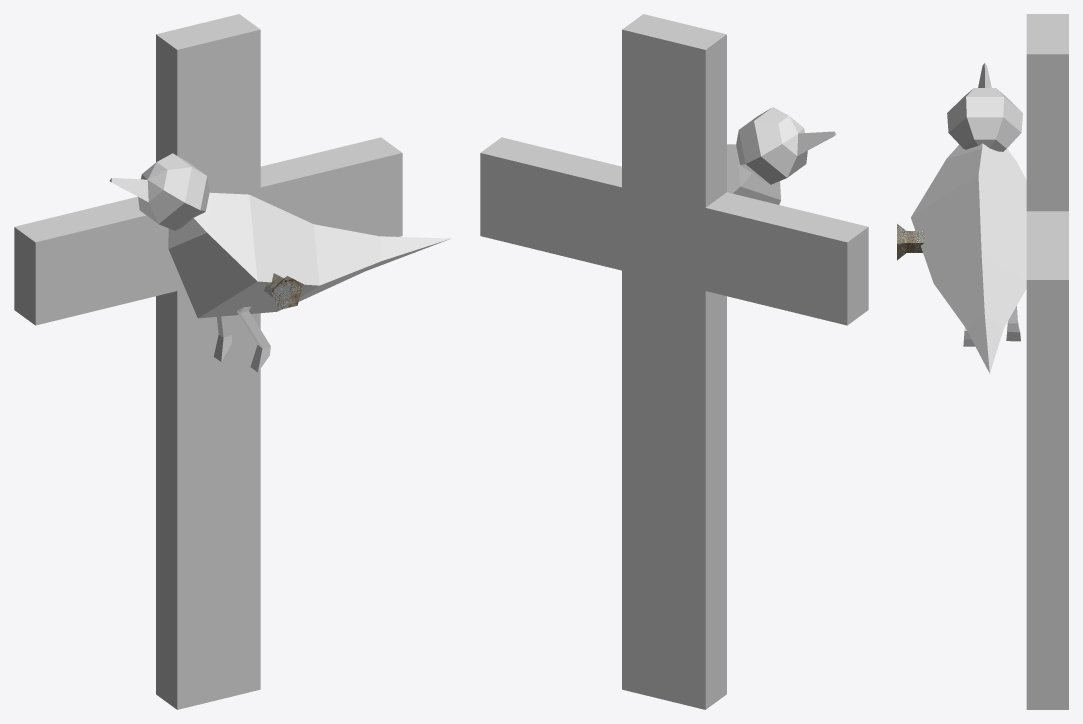
Rendered from DeadBird.fbx.
3 views of the same model, side by side, from view 1: azimuth 30°, elevation 25°; view 2: azimuth 150°, elevation 25°; view 3: azimuth 270°, elevation 25° (orthographic).
Visible parts, largest first — view 1: Cube.180, Sphere, Circle.110; view 2: Cube.180, Sphere; view 3: Cube.180, Sphere, Circle.110.
Part boxes in pixels (<box>): Cube.180: <box>14,14,402,709</box>; Sphere: <box>109,153,450,372</box>; Circle.110: <box>264,273,303,310</box>; Cube.180: <box>480,14,868,709</box>; Sphere: <box>727,107,836,204</box>; Cube.180: <box>1026,14,1068,709</box>; Sphere: <box>911,63,1026,373</box>; Circle.110: <box>897,224,924,260</box>.
Size of the model in its own units: 61.07 by 96.83 by 23.
